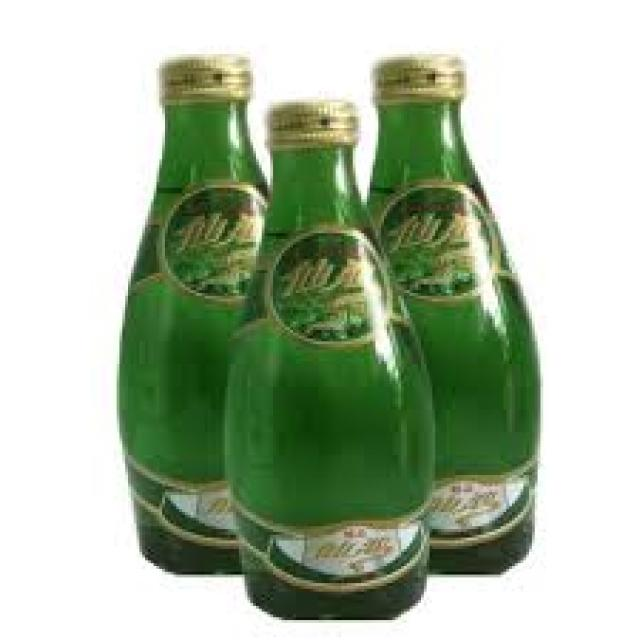glass: (222, 148, 424, 617), (364, 102, 538, 572), (114, 100, 265, 572)
metal: (157, 52, 248, 103), (370, 54, 461, 102), (268, 91, 356, 139)
